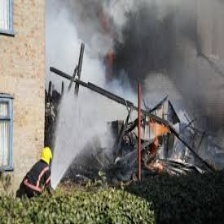smoke: (100, 4, 218, 93)
